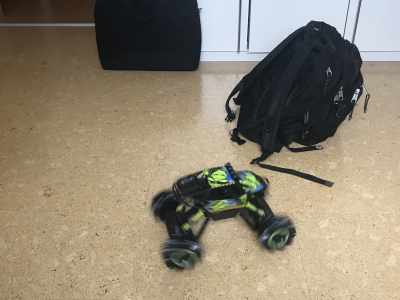remote control car: (146, 159, 299, 271)
